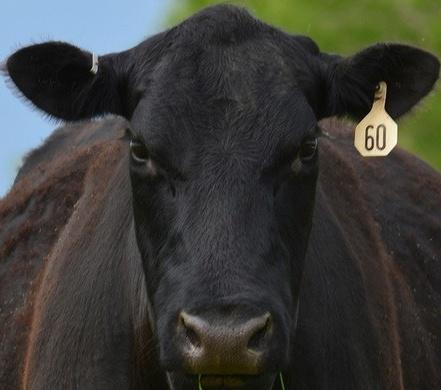muzzles: (159, 304, 291, 388)
